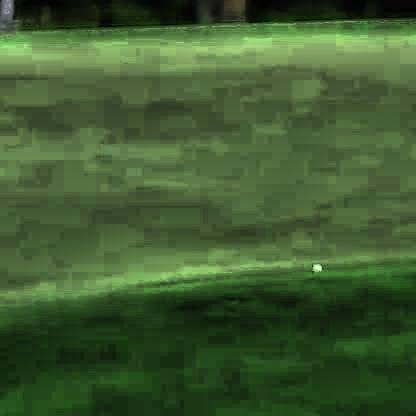golfball: (308, 261, 319, 272)
